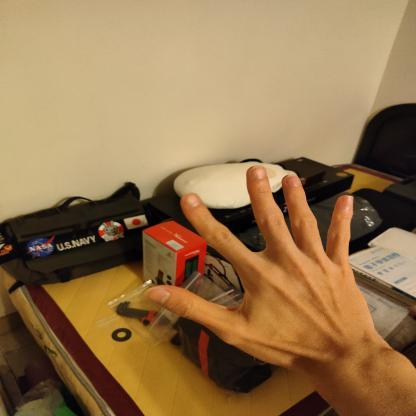bare_hand: (127, 154, 389, 384)
